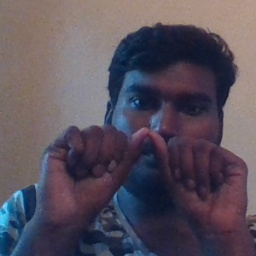A: (70, 116, 223, 216)
